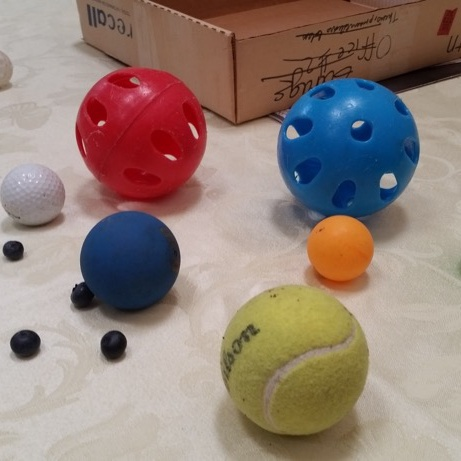ball: (274, 76, 423, 220), (72, 66, 209, 202)
